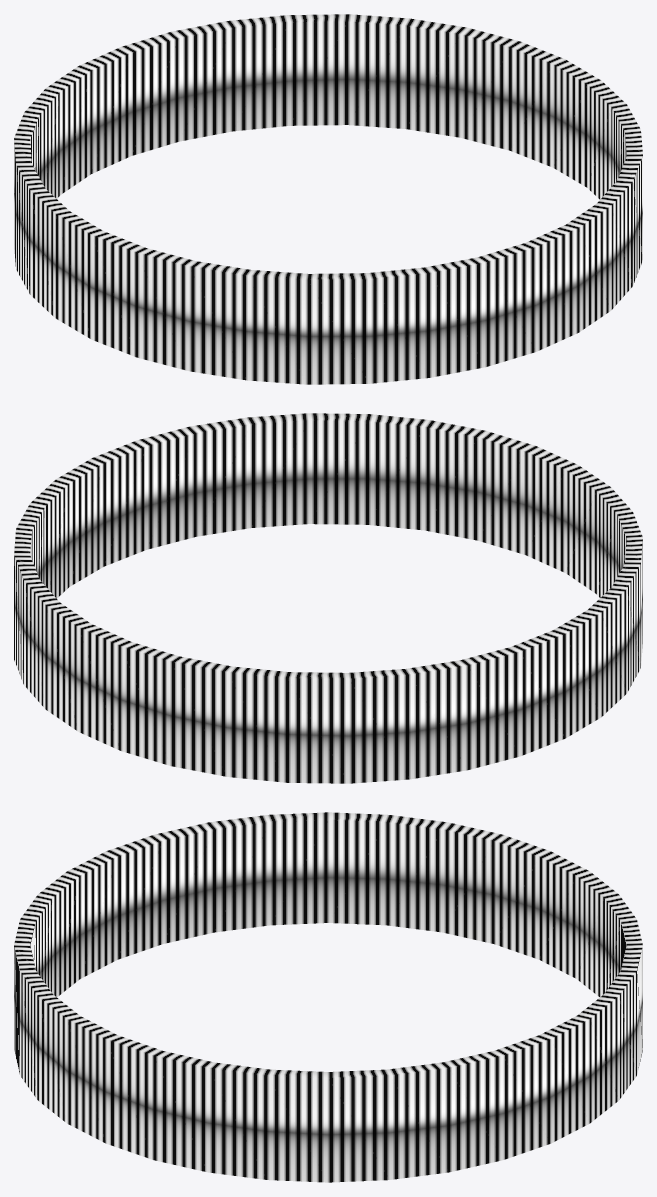
The model's file is degree measurement.fbx.
3 views of the same model, one above another, from view 1: azimuth 30°, elevation 25°; view 2: azimuth 150°, elevation 25°; view 3: azimuth 270°, elevation 25° (orthographic).
Visible parts, largest first — view 1: Cylinder; view 2: Cylinder; view 3: Cylinder.
Part boxes in pixels (x1,y1,x2,y2): Cylinder: (14, 14, 642, 384); Cylinder: (14, 413, 642, 783); Cylinder: (14, 812, 642, 1182).
Bounding box in the file's own units: 200 × 36.65 × 200.
